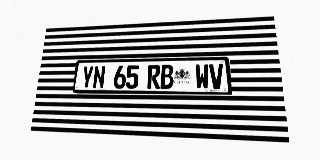5: (126, 65, 139, 89)
6: (113, 65, 127, 89)
B: (160, 65, 173, 89)
N: (92, 66, 106, 89)
R: (147, 65, 160, 89)
V: (209, 64, 224, 89)
W: (195, 64, 209, 89)
Y: (81, 66, 94, 89)
